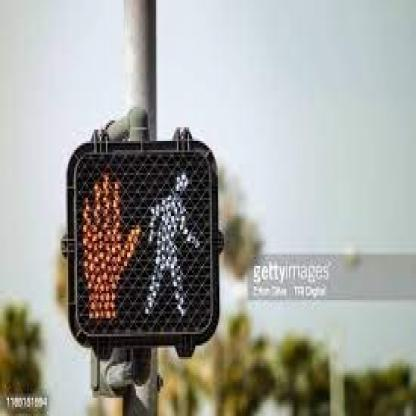Don-t Walk: (74, 156, 145, 337)
Walk: (144, 151, 213, 338)
